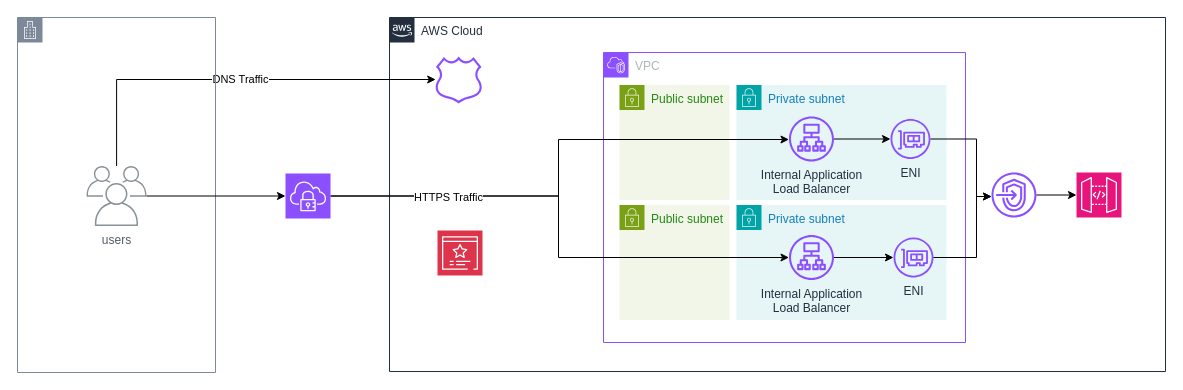
Some shapes in this 1183 by 390 pixel diagram are drawn without their labels. Here are the shapes that lost their labels. From the top down, the box of each, then its label:
(434, 56, 482, 103): Route53 Public Hosted Zone
(16, 16, 216, 372): Corporate data center
(284, 172, 330, 218): AWS Site-to-Site VPN
(991, 172, 1036, 217): VPCE
(1076, 172, 1122, 218): Amazon API Gateway
(436, 230, 482, 276): Certificate Manager
